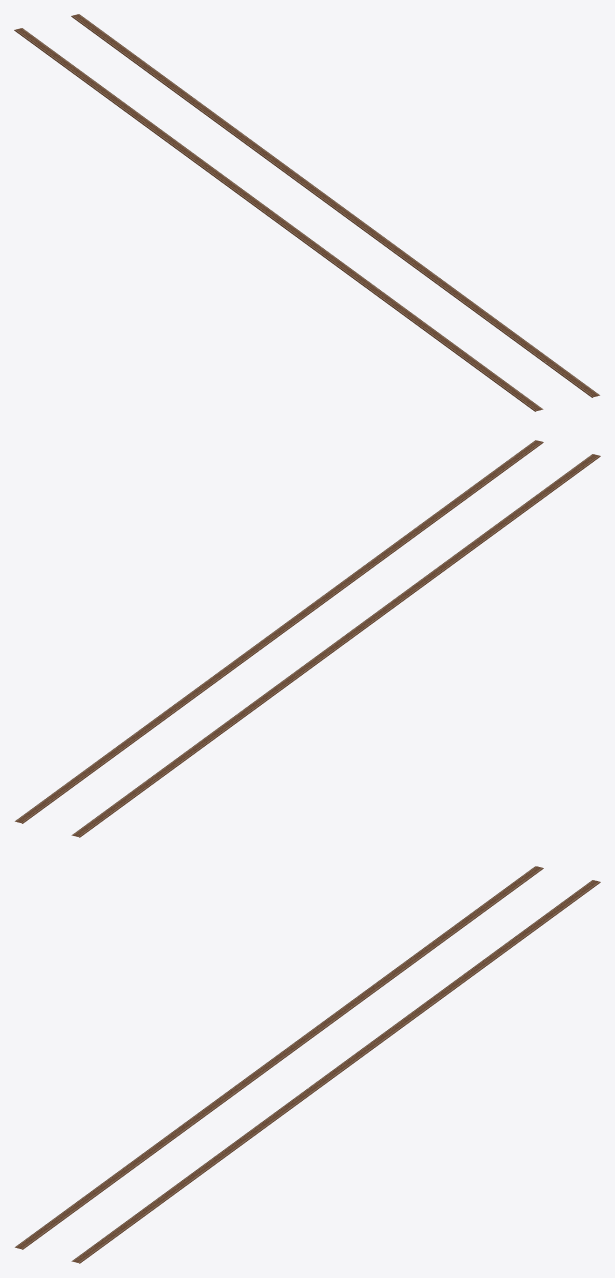
Rendered from Area_09_10.fbx.
The picture shows the model from 3 angles, top to bottom: view 1: azimuth 30°, elevation 25°; view 2: azimuth 150°, elevation 25°; view 3: azimuth 330°, elevation 25°; orthographic projection.
Visible parts, largest first — view 1: Area_09_10; view 2: Area_09_10; view 3: Area_09_10.
Boxes of the visible parts, box(x1,y1,x2,y2) form: Area_09_10: box(14, 14, 599, 411); Area_09_10: box(15, 440, 600, 837); Area_09_10: box(15, 866, 600, 1263).
Bounding box in the file's own units: 576 × 3.6 × 7908.
